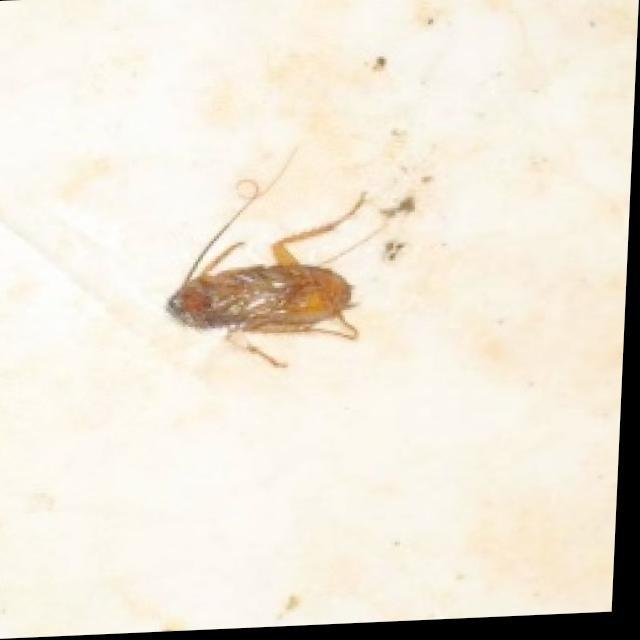cockroach: (145, 232, 415, 382)
